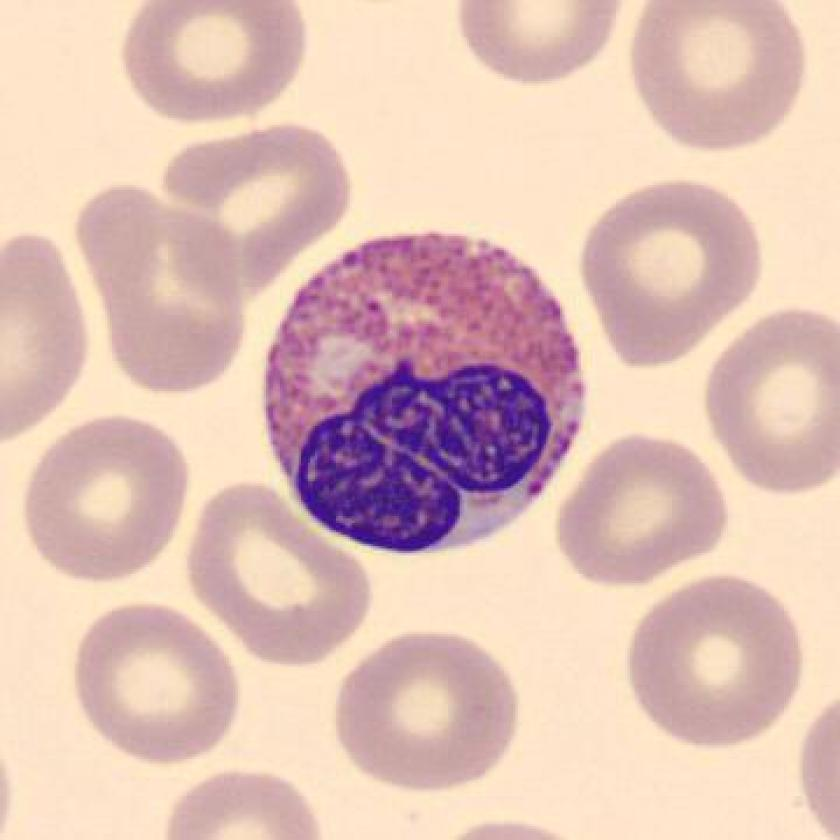eosinophil: (246, 223, 598, 566)
